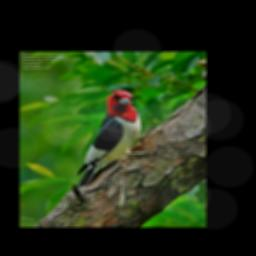Woodpecker: (73, 89, 153, 187)
